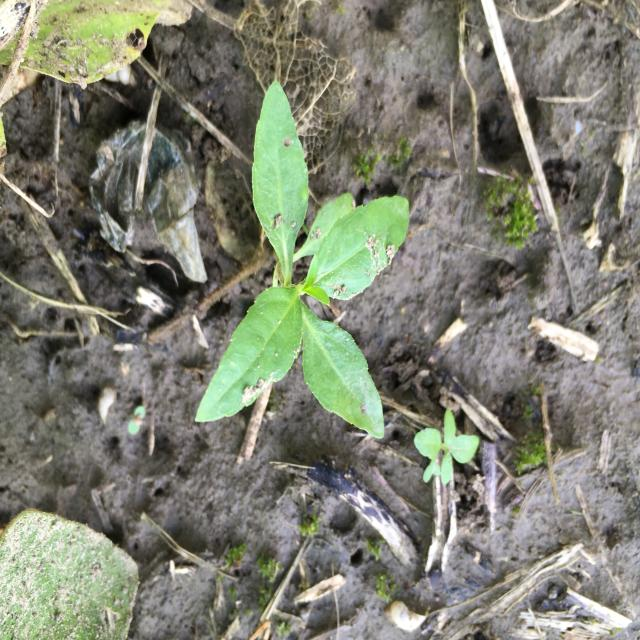Eclipta: (194, 78, 412, 441)
